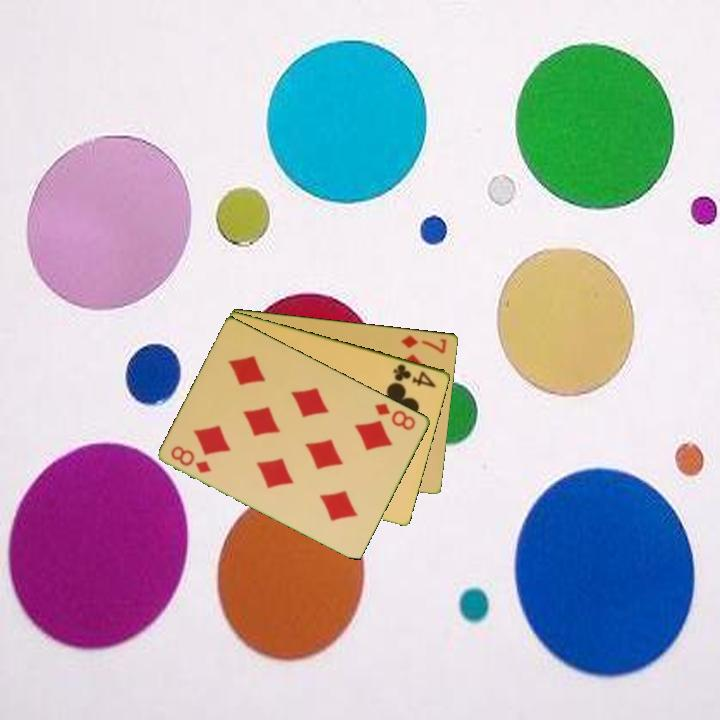4c: (390, 360, 440, 390)
7d: (398, 331, 450, 356)
8d: (372, 399, 419, 433), (167, 442, 214, 476)
